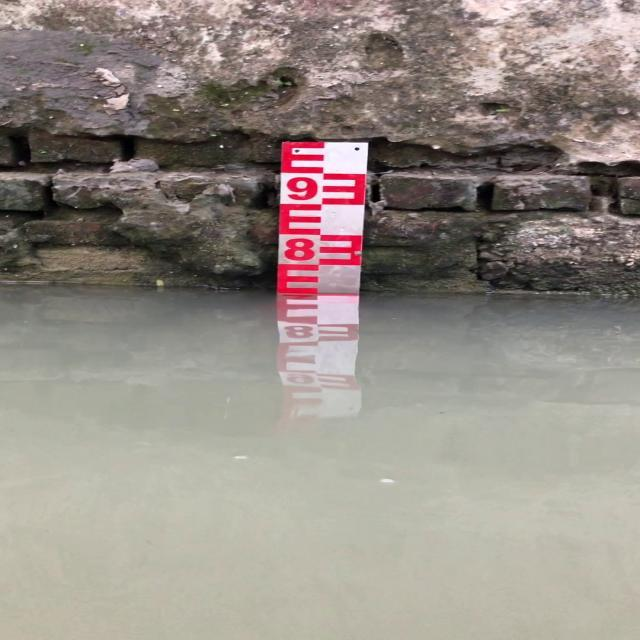ruler: (270, 126, 380, 308)
value: (280, 230, 321, 270), (280, 171, 323, 207)
